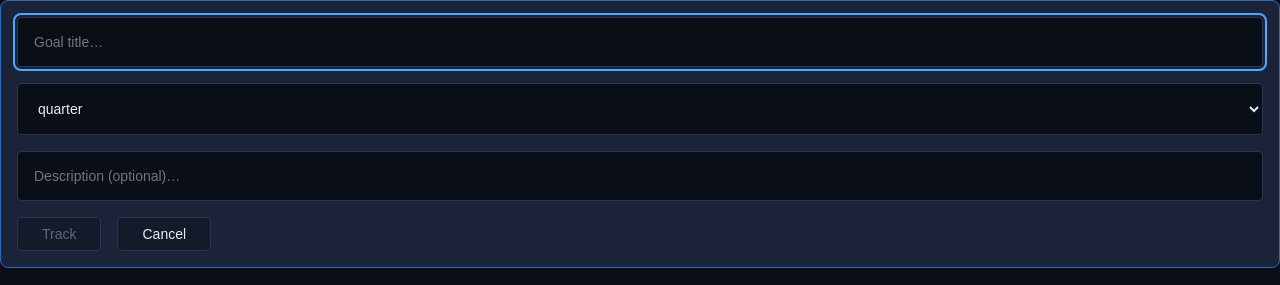
Scenario: GoalForm › Track is disabled until a title is entered
The image size is (1280, 285).
expect the button "Track" is disabled: met, box [17,217,102,251]
Type "Ship KANG v0.1" into the field with placeholder "Goal title…" at (640, 42), box [17,17,1263,67]
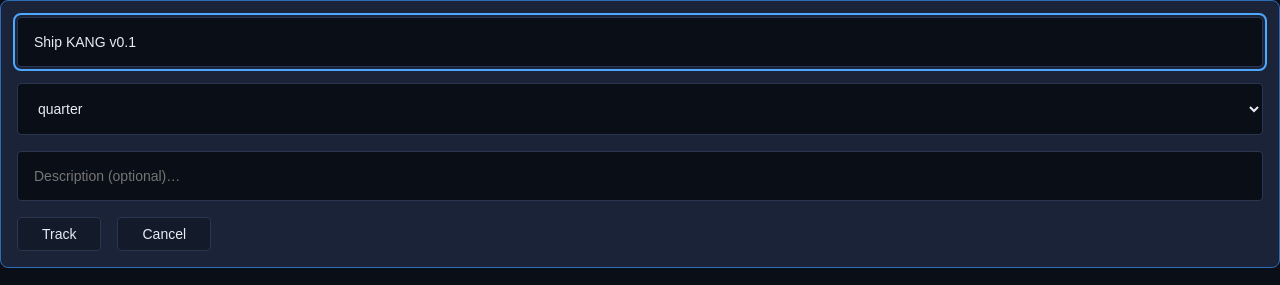
expect the button "Track" is enabled: met, box [17,217,102,251]
